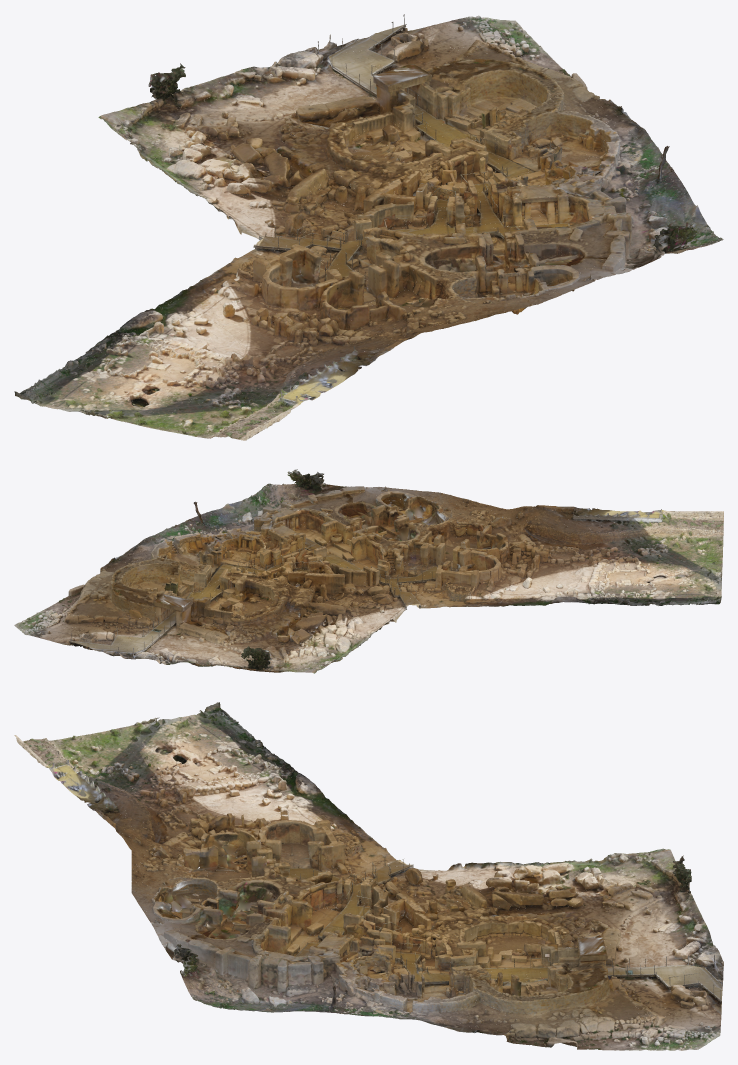
The model's file is tarxien_temples_1-v1.glb.
3 renders of one model, top to bottom at view 1: azimuth 30°, elevation 25°; view 2: azimuth 150°, elevation 25°; view 3: azimuth 270°, elevation 25°, orthographic. The views are drawn at different scales.
Parts seen in each view (by area): view 1: Object_4, Object_12, Object_6, Object_13, Object_7, Object_8, Object_5, Object_9, Object_10, Object_14; view 2: Object_4, Object_12, Object_13, Object_6, Object_5, Object_8, Object_7, Object_9, Object_10, Object_14; view 3: Object_4, Object_6, Object_12, Object_7, Object_13, Object_5, Object_9, Object_8, Object_10, Object_14.
Part boxes in pixels (x1,y1,x2,y2): Object_4: [98, 16, 723, 329]; Object_12: [14, 239, 435, 440]; Object_6: [104, 18, 658, 294]; Object_13: [51, 246, 414, 438]; Object_7: [114, 14, 676, 297]; Object_8: [127, 34, 562, 304]; Object_5: [181, 103, 722, 329]; Object_9: [174, 30, 669, 300]; Object_10: [162, 52, 605, 272]; Object_14: [53, 305, 423, 430]; Object_4: [14, 469, 507, 673]; Object_12: [409, 505, 723, 608]; Object_13: [428, 505, 723, 605]; Object_6: [18, 488, 417, 671]; Object_5: [109, 469, 503, 652]; Object_8: [68, 538, 465, 668]; Object_7: [23, 489, 445, 669]; Object_9: [34, 473, 446, 670]; Object_10: [45, 515, 410, 656]; Object_14: [494, 506, 710, 605]; Object_4: [131, 842, 723, 1050]; Object_6: [142, 848, 722, 1050]; Object_12: [14, 702, 406, 872]; Object_7: [163, 852, 721, 1046]; Object_13: [18, 716, 352, 869]; Object_5: [132, 843, 589, 1033]; Object_9: [155, 854, 722, 1048]; Object_8: [246, 843, 723, 1022]; Object_10: [246, 859, 642, 1050]; Object_14: [61, 730, 298, 856].
Bounding box in the file's own units: 104 × 6.58 × 95.11.
Materials: 1 (1 with a texture image).
